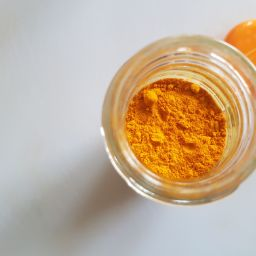Turmeric dried: (129, 81, 232, 176), (150, 91, 209, 172)
